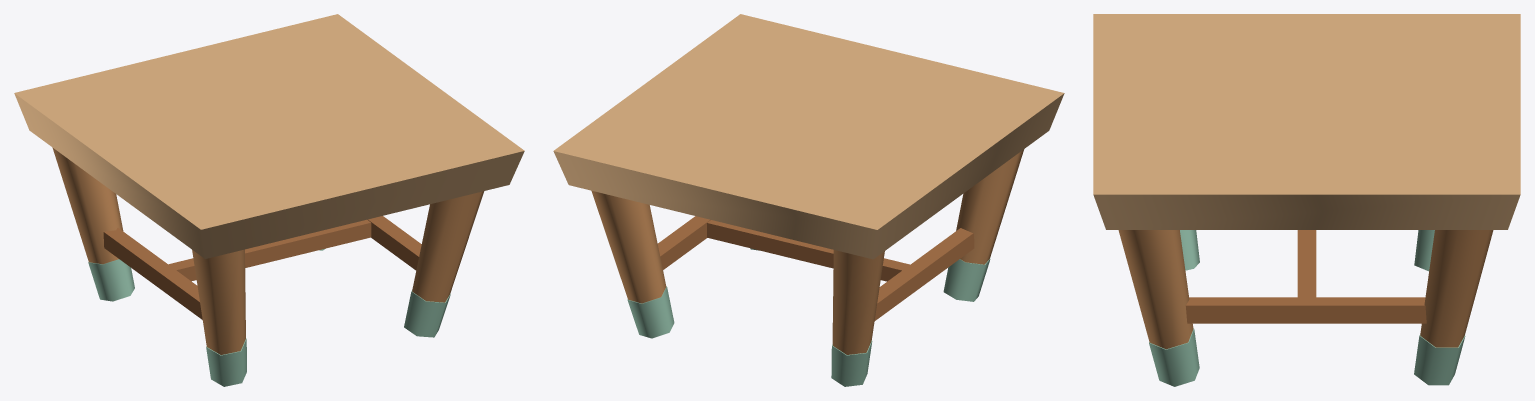
Rendered from Masa.fbx.
The picture shows the model from 3 angles, left to right: view 1: azimuth 30°, elevation 25°; view 2: azimuth 150°, elevation 25°; view 3: azimuth 270°, elevation 25°; orthographic projection. The views are drawn at different scales.
Parts seen in each view (by area): view 1: top_slab, leg_xz, leg_Xz, leg_XZ, stretcher_left, stretcher_cross, foot_XZ, stretcher_right, foot_xz, foot_Xz; view 2: top_slab, leg_xZ, leg_XZ, leg_Xz, stretcher_left, stretcher_cross, foot_xZ, foot_Xz, stretcher_right, foot_XZ; view 3: top_slab, stretcher_right, leg_xz, leg_xZ, foot_xz, foot_xZ, stretcher_cross, foot_XZ, foot_Xz.
Part boxes in pixels (bbox=[...]): top_slab: bbox=[14, 14, 524, 258]; leg_xz: bbox=[412, 191, 484, 302]; leg_Xz: bbox=[192, 249, 245, 354]; leg_XZ: bbox=[52, 147, 123, 264]; stretcher_left: bbox=[103, 228, 202, 319]; stretcher_cross: bbox=[168, 219, 371, 281]; foot_XZ: bbox=[88, 259, 134, 301]; stretcher_right: bbox=[368, 216, 421, 270]; foot_xz: bbox=[404, 290, 450, 337]; foot_Xz: bbox=[206, 338, 246, 386]; top_slab: bbox=[553, 14, 1064, 259]; leg_xZ: bbox=[591, 190, 666, 303]; leg_XZ: bbox=[832, 250, 884, 354]; leg_Xz: bbox=[956, 149, 1024, 264]; stretcher_left: bbox=[874, 228, 974, 320]; stretcher_cross: bbox=[707, 220, 909, 281]; foot_xZ: bbox=[627, 286, 674, 338]; foot_Xz: bbox=[943, 258, 990, 301]; stretcher_right: bbox=[657, 216, 710, 269]; foot_XZ: bbox=[831, 340, 872, 386]; top_slab: bbox=[1093, 14, 1520, 229]; stretcher_right: bbox=[1186, 297, 1426, 323]; leg_xz: bbox=[1118, 230, 1193, 349]; leg_xZ: bbox=[1420, 230, 1493, 347]; foot_xz: bbox=[1149, 328, 1199, 386]; foot_xZ: bbox=[1414, 334, 1465, 385]; stretcher_cross: bbox=[1297, 230, 1316, 297]; foot_XZ: bbox=[1414, 230, 1434, 271]; foot_Xz: bbox=[1180, 230, 1199, 270].
Size of the model in its own units: 64.35 by 36.72 by 64.35.
